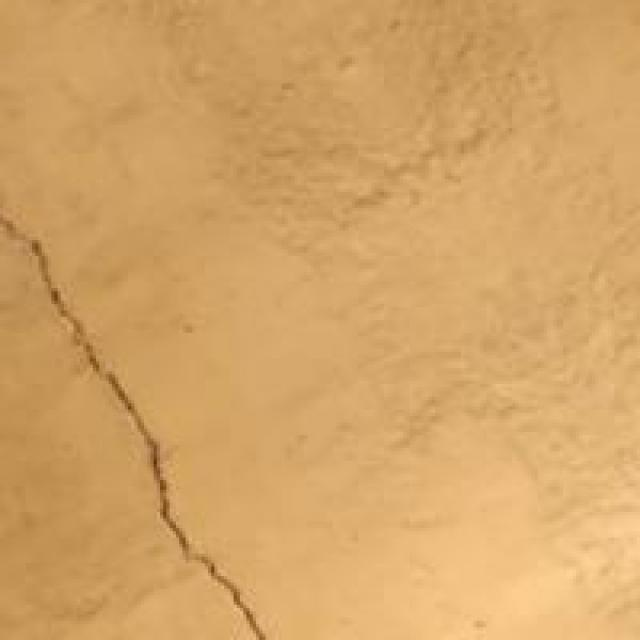Crack: (0, 186, 259, 637)
